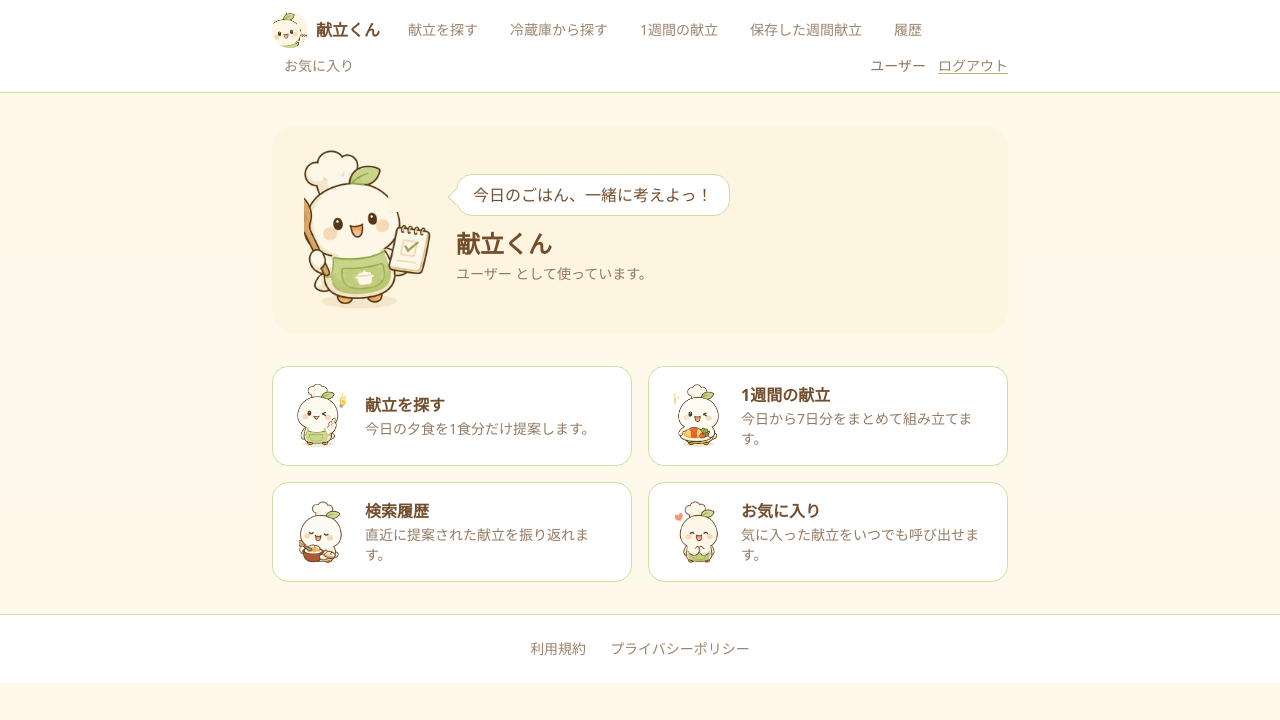
Test: App › ヘッダのリンクでお気に入りへ遷移できる
This screenshot has width=1280, height=720.
Click the link "お気に入り".
click(319, 66)  # box [284, 56, 354, 75]
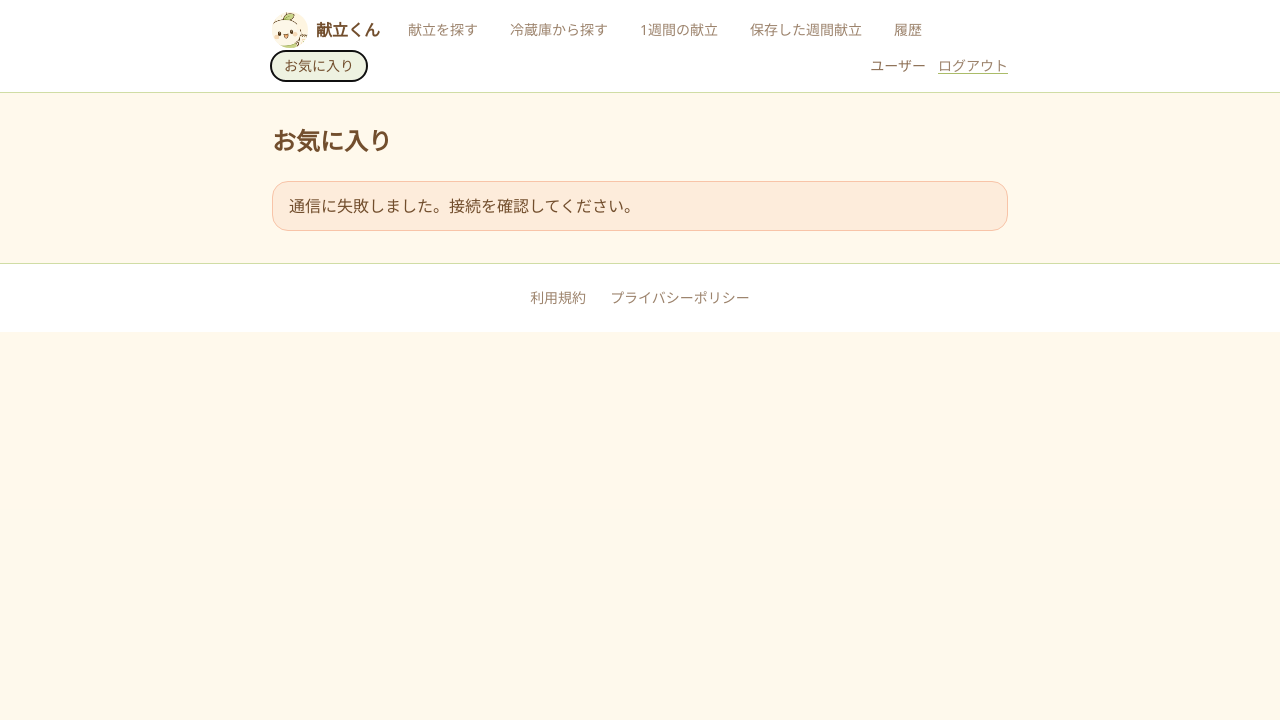
Now the heading "お気に入り" is shown, box [272, 124, 392, 157]
